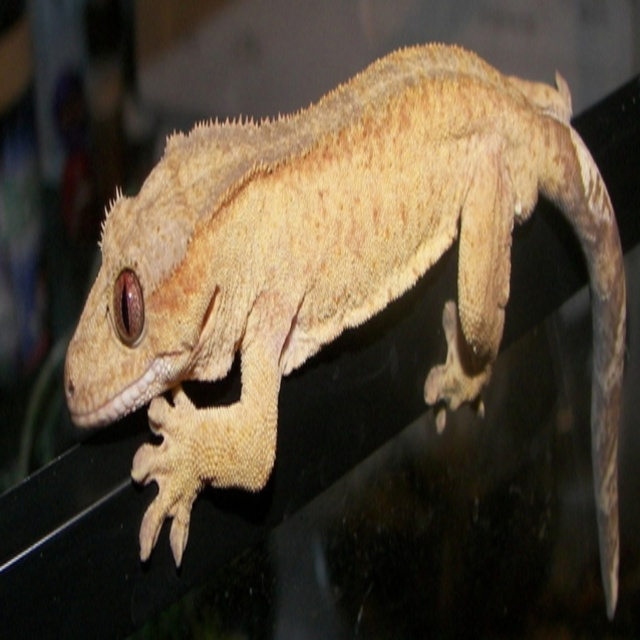Lizard: (79, 40, 632, 550)
